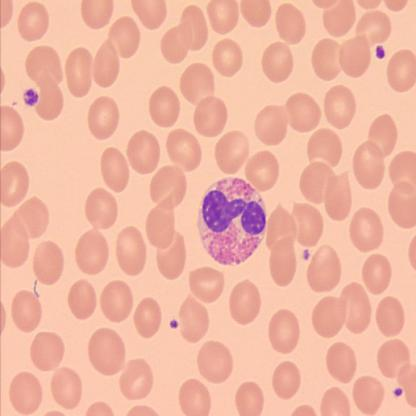Eosinophil: (197, 174, 268, 263)
